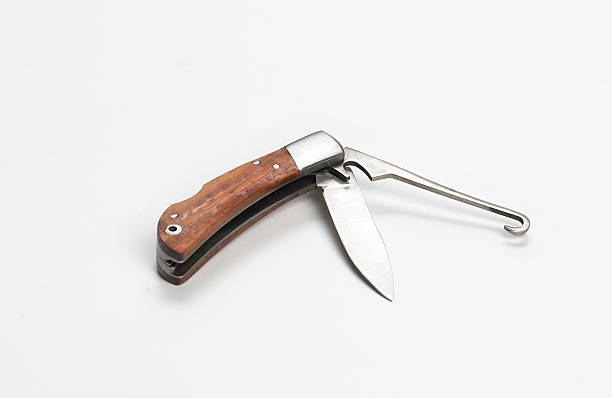knife: (319, 181, 396, 303)
